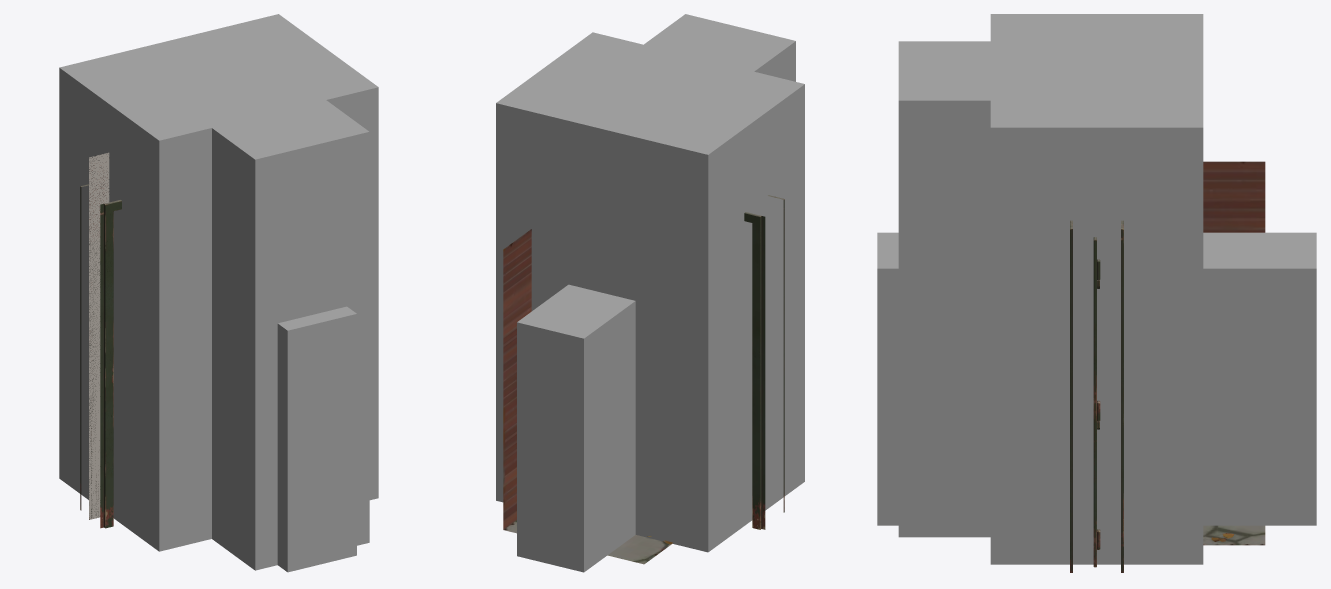
Rendered from concrete.glb.
The picture shows the model from 3 angles, left to right: view 1: azimuth 30°, elevation 25°; view 2: azimuth 150°, elevation 25°; view 3: azimuth 270°, elevation 25°; orthographic projection. The views are drawn at different scales.
Visible parts, largest first — view 1: Isl_boiler, Solid_boiler_wall, Solid_shelf_rack, Door_frame_concrete, Win_cellar, Mod_breach_brick_B_concrete, Mod_breach_brick_C_concrete; view 2: Isl_boiler, Solid_shelf_rack, Solid_boiler_wall, Exit_concrete_p0, Door_frame_concrete; view 3: Isl_boiler, Solid_boiler_wall, Solid_shelf_rack, Exit_concrete_p0, Door_frame_concrete, Door_leaf_concrete.
Boxes of the visible parts, bbox=[...] form: Isl_boiler: bbox=[59, 14, 378, 551]; Solid_boiler_wall: bbox=[162, 63, 369, 570]; Solid_shelf_rack: bbox=[277, 306, 356, 572]; Door_frame_concrete: bbox=[80, 184, 121, 528]; Win_cellar: bbox=[89, 152, 109, 519]; Mod_breach_brick_B_concrete: bbox=[89, 153, 109, 519]; Mod_breach_brick_C_concrete: bbox=[89, 155, 109, 516]; Isl_boiler: bbox=[496, 32, 804, 552]; Solid_shelf_rack: bbox=[517, 284, 635, 572]; Solid_boiler_wall: bbox=[595, 14, 795, 106]; Exit_concrete_p0: bbox=[503, 229, 672, 564]; Door_frame_concrete: bbox=[744, 195, 784, 529]; Isl_boiler: bbox=[990, 14, 1203, 564]; Solid_boiler_wall: bbox=[898, 41, 1096, 537]; Solid_shelf_rack: bbox=[877, 232, 1316, 525]; Exit_concrete_p0: bbox=[1203, 161, 1265, 545]; Door_frame_concrete: bbox=[1070, 220, 1123, 572]; Door_leaf_concrete: bbox=[1093, 237, 1100, 567].
Bounding box in the file's own units: 2.25 × 3.56 × 3.1.
Materials: 17 (12 with a texture image).
